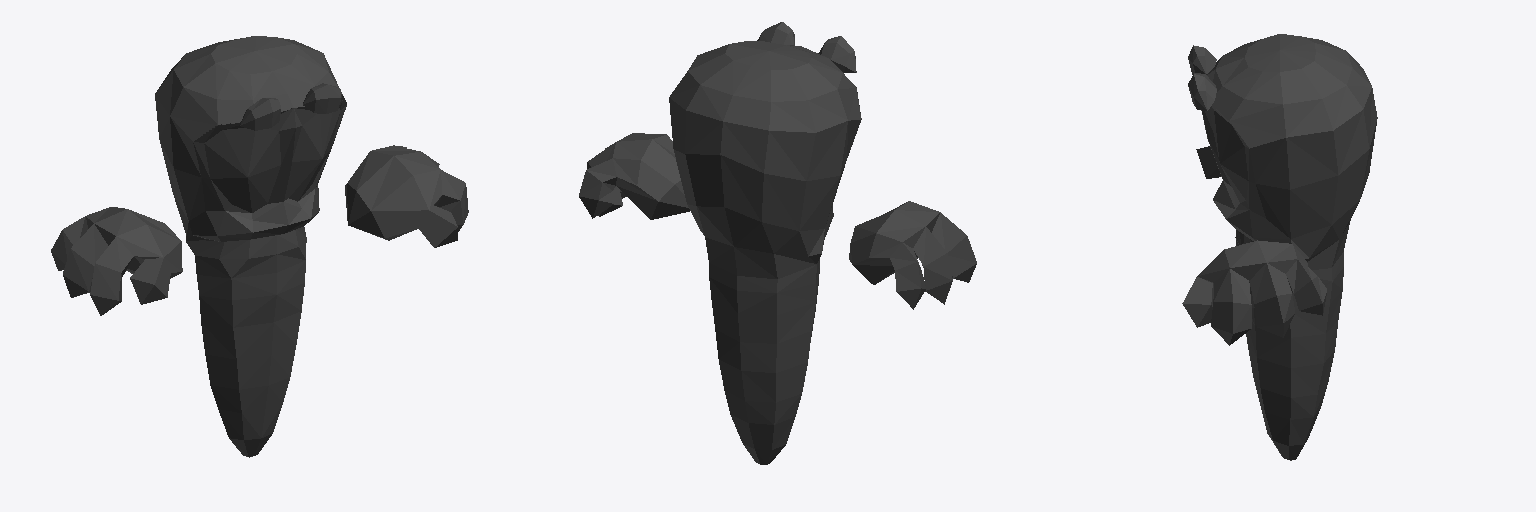
File: Worms.obj
The picture shows the model from 3 angles: view 1: azimuth 30°, elevation 25°; view 2: azimuth 150°, elevation 25°; view 3: azimuth 270°, elevation 25°; orthographic projection.
Visible parts, largest first — view 1: Inst3D_RefRep.221_Ref, Inst3D_RefRep.223_Ref, Inst3D_RefRep.225_Ref; view 2: Inst3D_RefRep.221_Ref, Inst3D_RefRep.223_Ref; view 3: Inst3D_RefRep.221_Ref, Inst3D_RefRep.223_Ref, Inst3D_RefRep.225_Ref.
Part boxes in pixels (left/top/right/bottom): Inst3D_RefRep.221_Ref: left=155, top=36, right=342, bottom=457; Inst3D_RefRep.223_Ref: left=51, top=145, right=468, bottom=315; Inst3D_RefRep.225_Ref: left=193, top=95, right=346, bottom=220; Inst3D_RefRep.221_Ref: left=669, top=22, right=861, bottom=464; Inst3D_RefRep.223_Ref: left=579, top=133, right=976, bottom=309; Inst3D_RefRep.221_Ref: left=1188, top=34, right=1377, bottom=460; Inst3D_RefRep.223_Ref: left=1182, top=146, right=1326, bottom=345; Inst3D_RefRep.225_Ref: left=1201, top=106, right=1254, bottom=209.
Size of the model in its own units: 4.03 by 4.18 by 1.8.